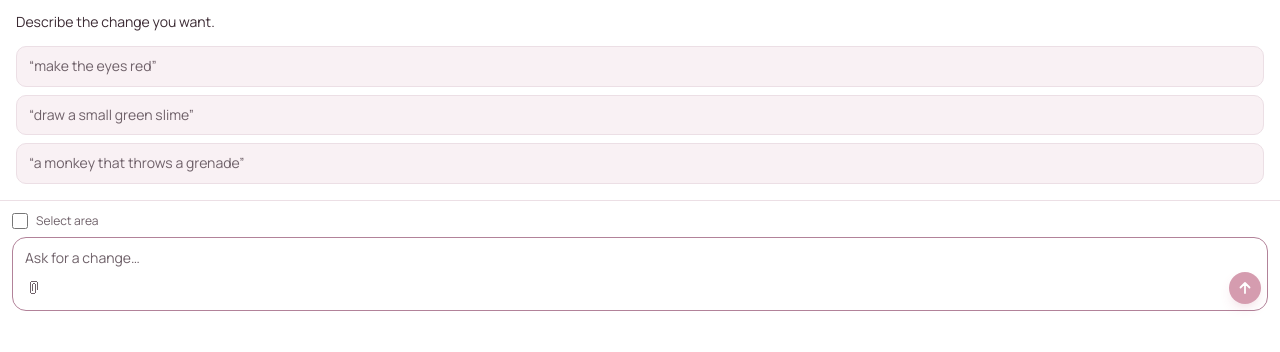
Test: AI chat submission › shows a failed first request even after restoring its prompt to the input
Expected: the button named "Send" is disabled, [1229,272,1261,304]
Type "draw a blood mage" into the text box named "Message" at [640, 255], box [13,238,1267,272]
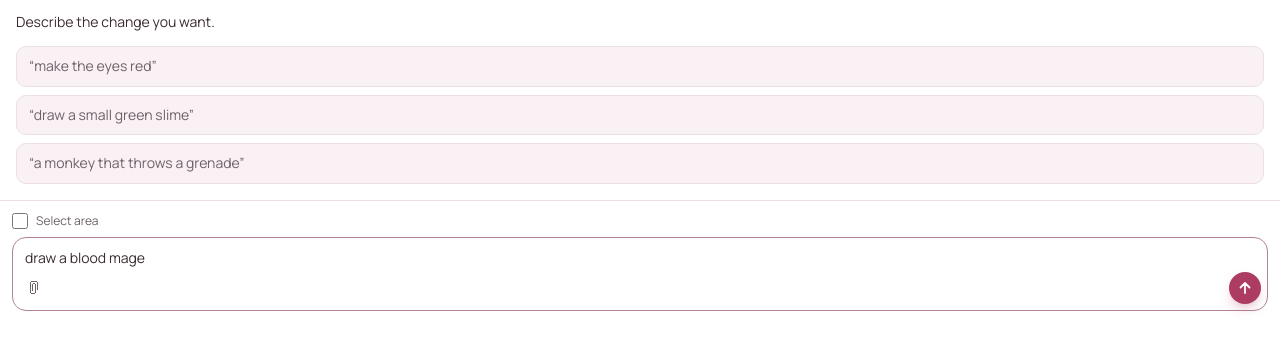
Expected: the button named "Send" is enabled
Click the button named "Send" at [1245, 288], box [1229,272,1261,304]
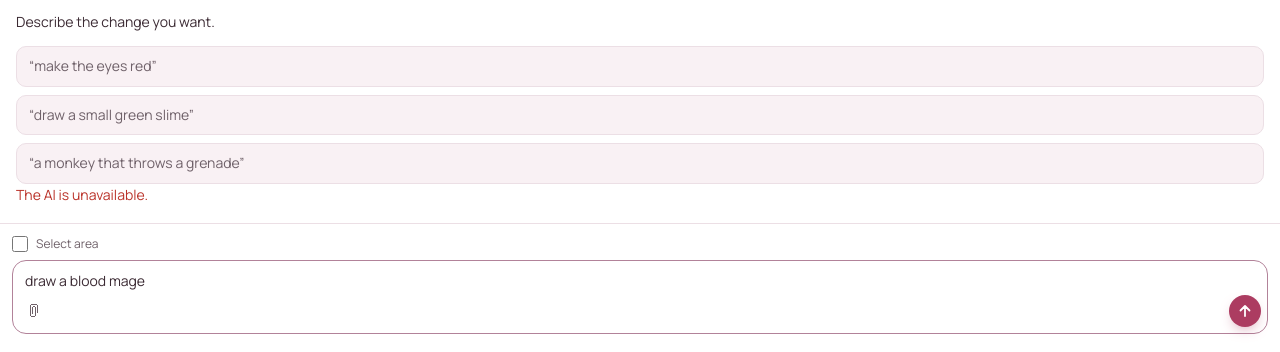
Expected: the button named "Send" is enabled, [1229,295,1261,327]
Expected: the list item "The AI is unavailable." is shown, [16,185,148,204]
